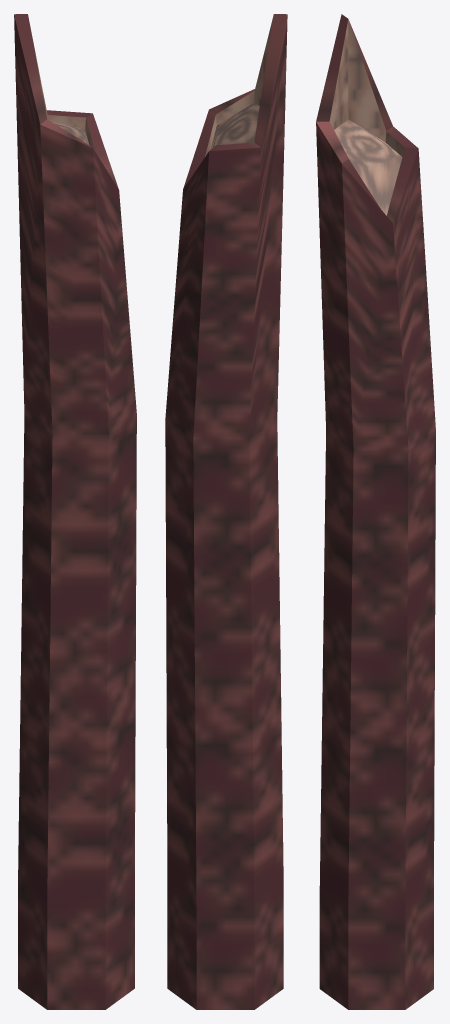
Rendered from trunk_02.fbx.
3 views of the same model, side by side, from view 1: azimuth 30°, elevation 25°; view 2: azimuth 210°, elevation 25°; view 3: azimuth 330°, elevation 25° (orthographic). The views are drawn at different scales.
Visible parts, largest first — view 1: trunk_02; view 2: trunk_02; view 3: trunk_02.
Boxes of the visible parts, bbox=[...] form: trunk_02: bbox=[14, 14, 136, 1009]; trunk_02: bbox=[165, 14, 287, 1009]; trunk_02: bbox=[316, 14, 435, 1009].
Size of the model in its own units: 189 by 1845 by 200.
1 material, 1 textured.
